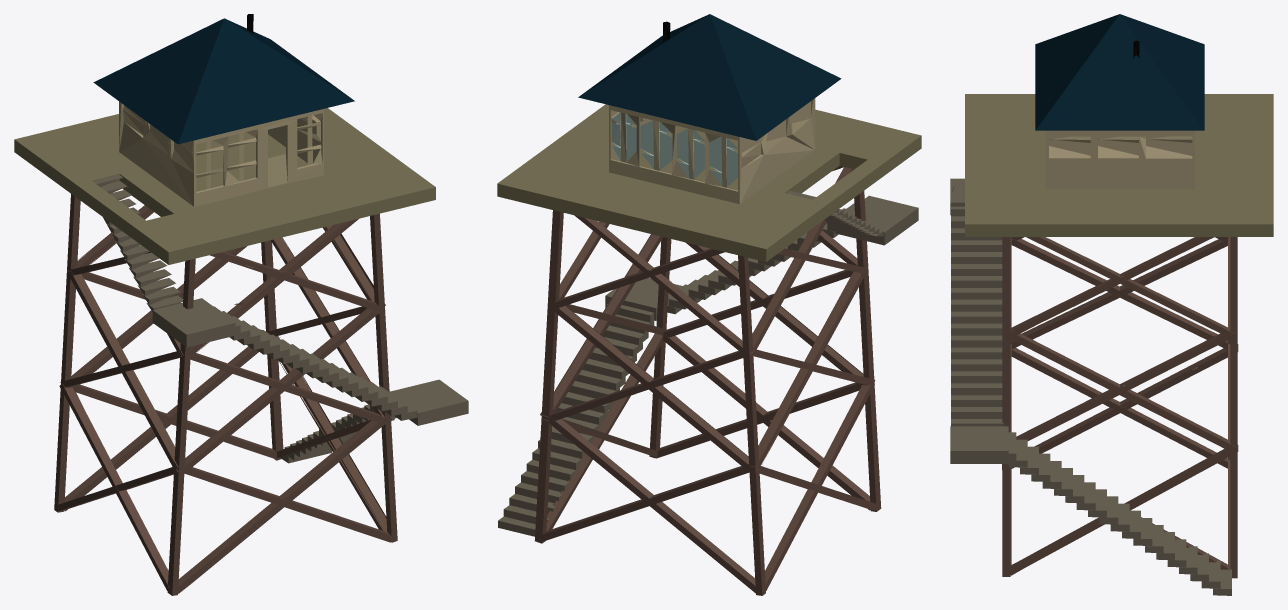
The model's file is fire-lookout.zfix-v14.lod2.glb.
3 renders of one model, left to right at view 1: azimuth 30°, elevation 25°; view 2: azimuth 150°, elevation 25°; view 3: azimuth 270°, elevation 25°, orthographic.
Parts seen in each view (by area): view 1: Object_4; view 2: Object_4; view 3: Object_4.
Boxes of the visible parts, box(x1,y1,x2,y2) form: Object_4: box(14, 14, 468, 595); Object_4: box(497, 14, 921, 595); Object_4: box(950, 14, 1273, 595).
Bounding box in the file's own units: 9.33 × 15.51 × 8.93.
